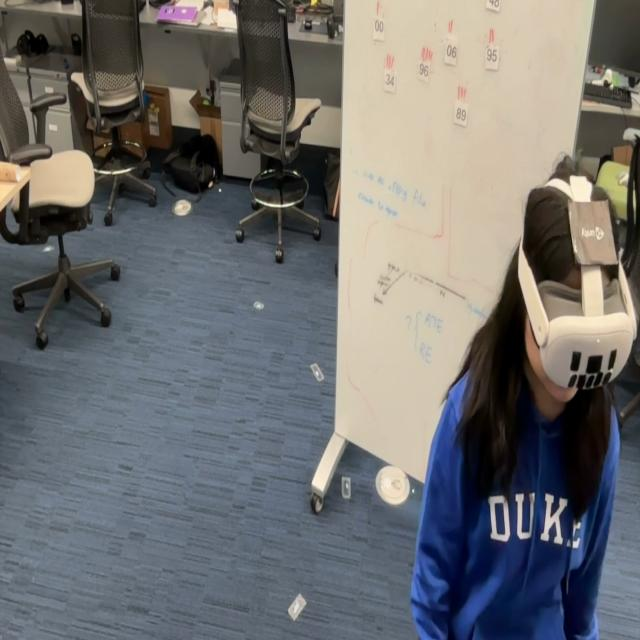Headset: (516, 173, 636, 392)
UnityLogo: (569, 184, 620, 279)
